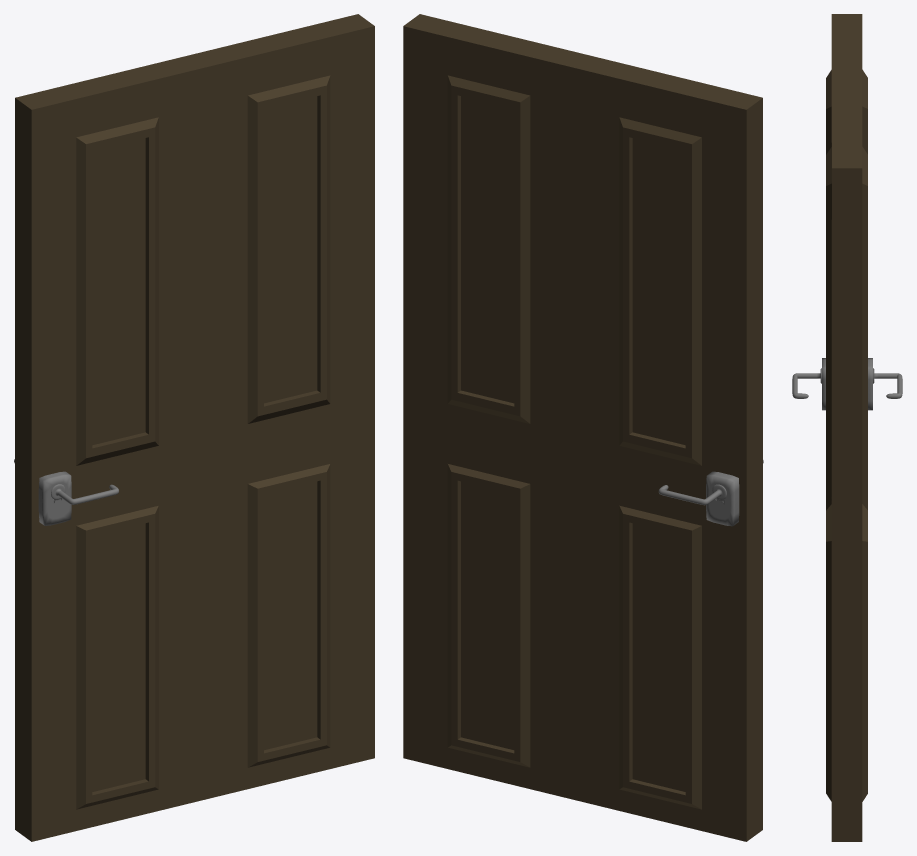
The model's file is PROJECT DREAM - Bedroom - Door.fbx.
3 views of the same model, side by side, from view 1: azimuth 30°, elevation 25°; view 2: azimuth 150°, elevation 25°; view 3: azimuth 270°, elevation 25° (orthographic). The views are drawn at different scales.
Visible parts, largest first — view 1: Bedroom - Door; view 2: Bedroom - Door; view 3: Bedroom - Door.
Part boxes in pixels (bbox=[...]): Bedroom - Door: bbox=[14, 14, 374, 841]; Bedroom - Door: bbox=[403, 14, 763, 841]; Bedroom - Door: bbox=[792, 14, 902, 841].
Size of the model in its own units: 151 by 308 by 45.65.
